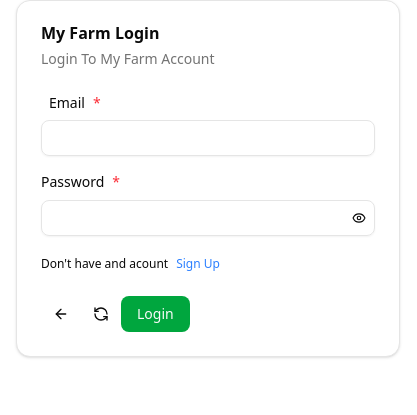
it: Login Form Tests › shows error on failed login
Type "test@test.com" into the field labelled "Email *" at [208, 138], box [41,120,375,156]
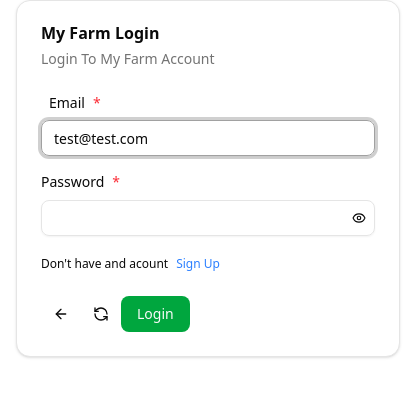
Type "test" into the password field labelled "Password *" at [193, 218], box [42,200,344,236]
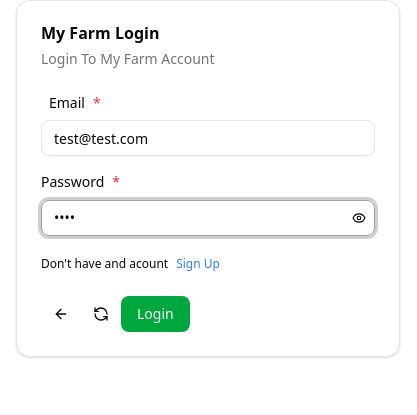
Click the button "Login" at [155, 314], box [121,296,190,332]
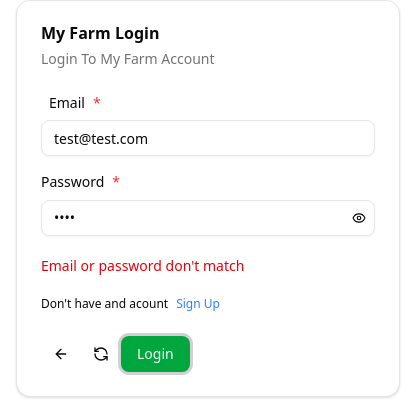
Check: the text "Email or password don't match" is shown, box [41,256,244,274]
